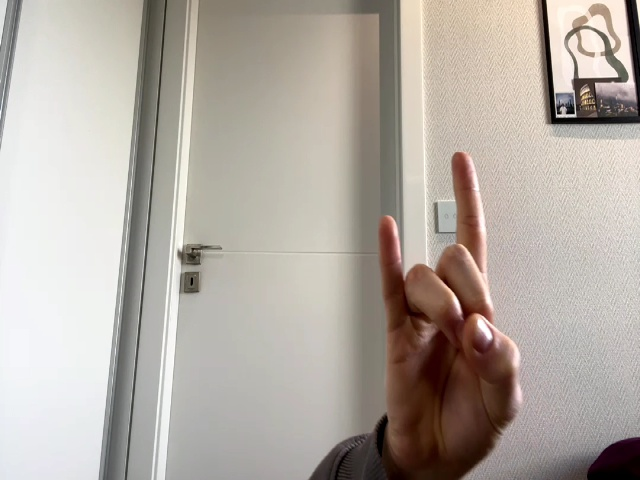Y: (379, 152, 524, 440)
